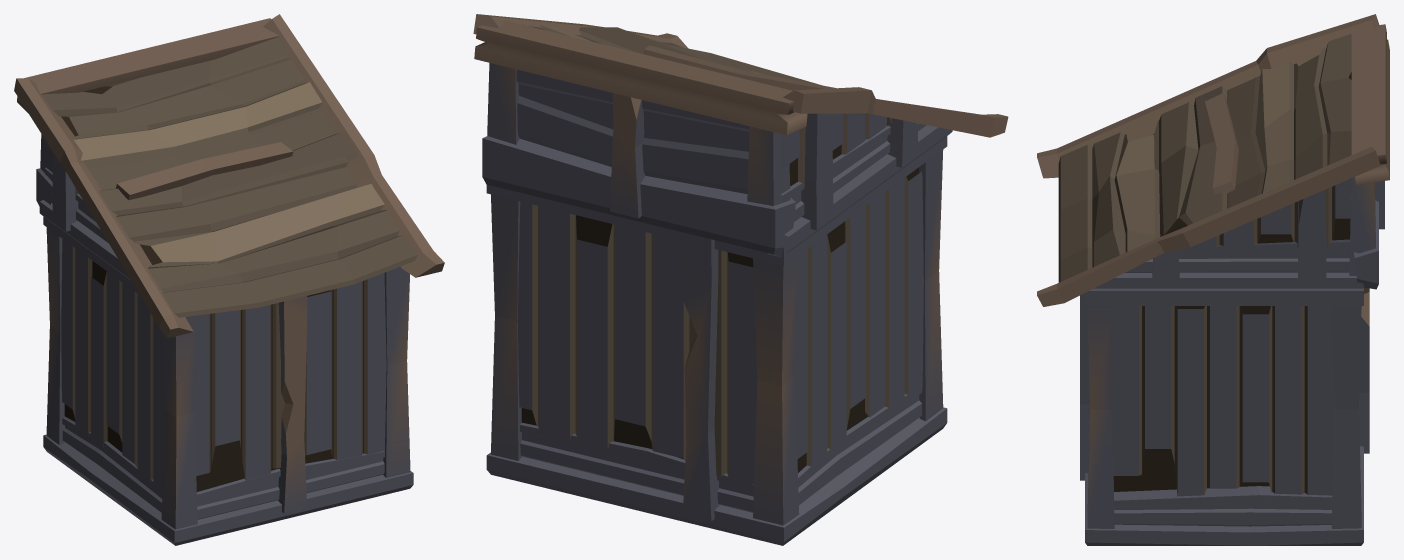
File: SM_Bld_Shanty_SideAttachment_03.glb
3 renders of one model, left to right at view 1: azimuth 30°, elevation 25°; view 2: azimuth 150°, elevation 25°; view 3: azimuth 270°, elevation 25°, orthographic. The views are drawn at different scales.
Visible parts, largest first — view 1: SM_Bld_Shanty_SideAttachment_03; view 2: SM_Bld_Shanty_SideAttachment_03; view 3: SM_Bld_Shanty_SideAttachment_03.
Part boxes in pixels (x1,y1,x2,y2): SM_Bld_Shanty_SideAttachment_03: (14, 14, 444, 545); SM_Bld_Shanty_SideAttachment_03: (473, 14, 1008, 545); SM_Bld_Shanty_SideAttachment_03: (1037, 14, 1389, 545).
Size of the model in its own units: 0.0301 by 0.0392 by 0.0315.
